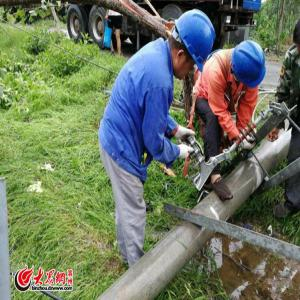blue: (170, 9, 217, 80), (231, 39, 267, 91)
